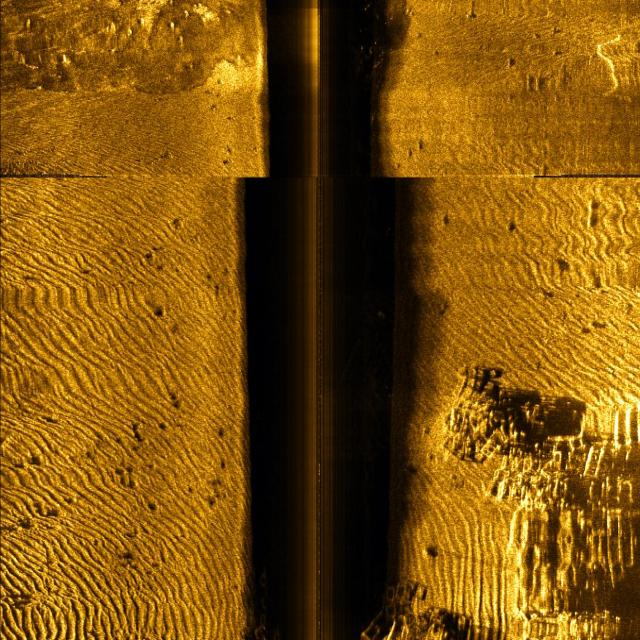artificial reef: (440, 362, 554, 524), (361, 563, 445, 640), (253, 567, 283, 639)
